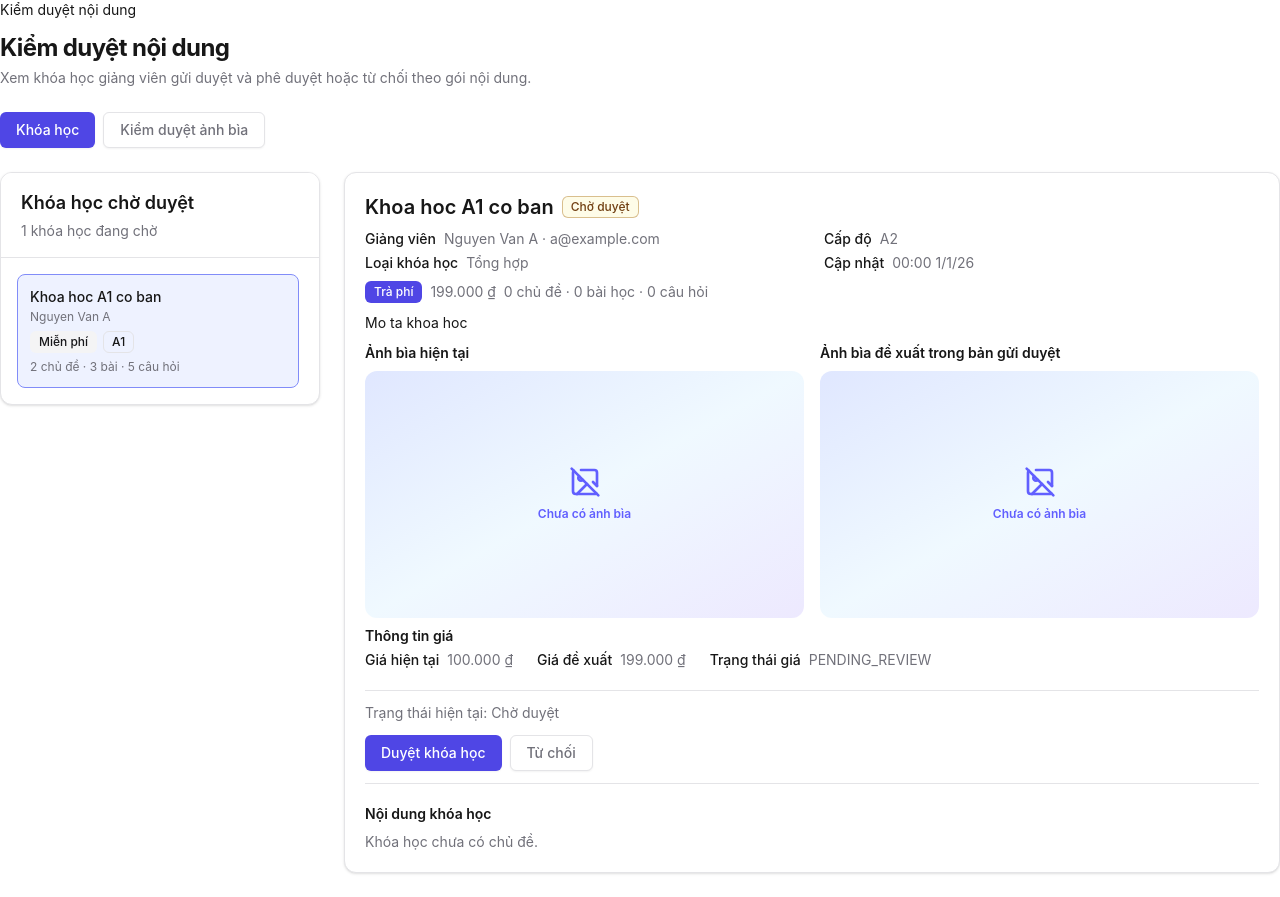
Test: AdminContentReviewPage shadcn sync › shows the new status and disables inapplicable buttons after approve
Expected: the heading "Khoa hoc A1 co ban" is shown, [365,193,554,221]
What coordinates should you click on to do the following:
click the button "Duyệt khóa học"
I would click on:
 (433, 753)
Its box is [365,735,502,771].
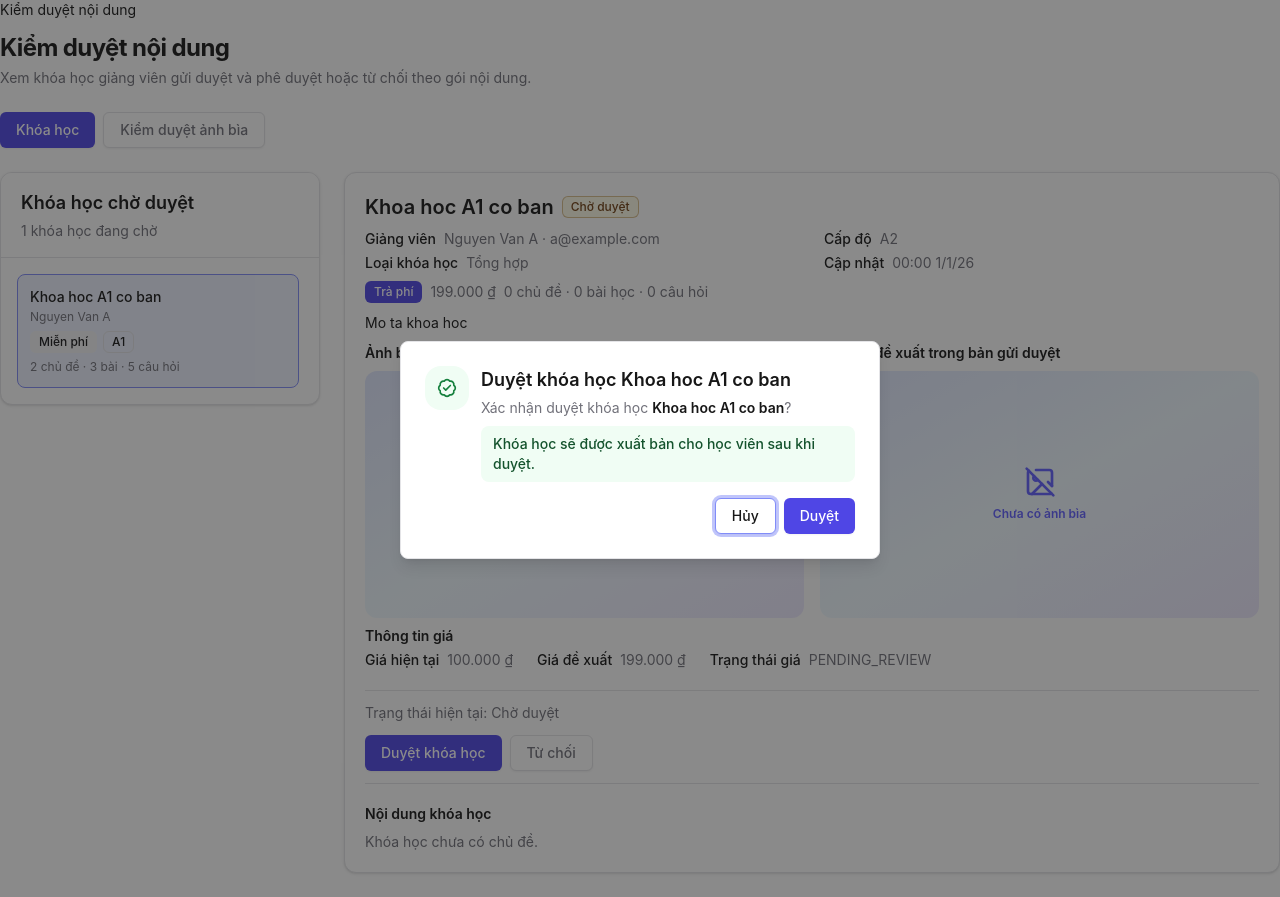
What coordinates should you click on to do the following:
click the button "Duyệt"
I would click on:
 (819, 516)
Its box is [784,498,855,534].
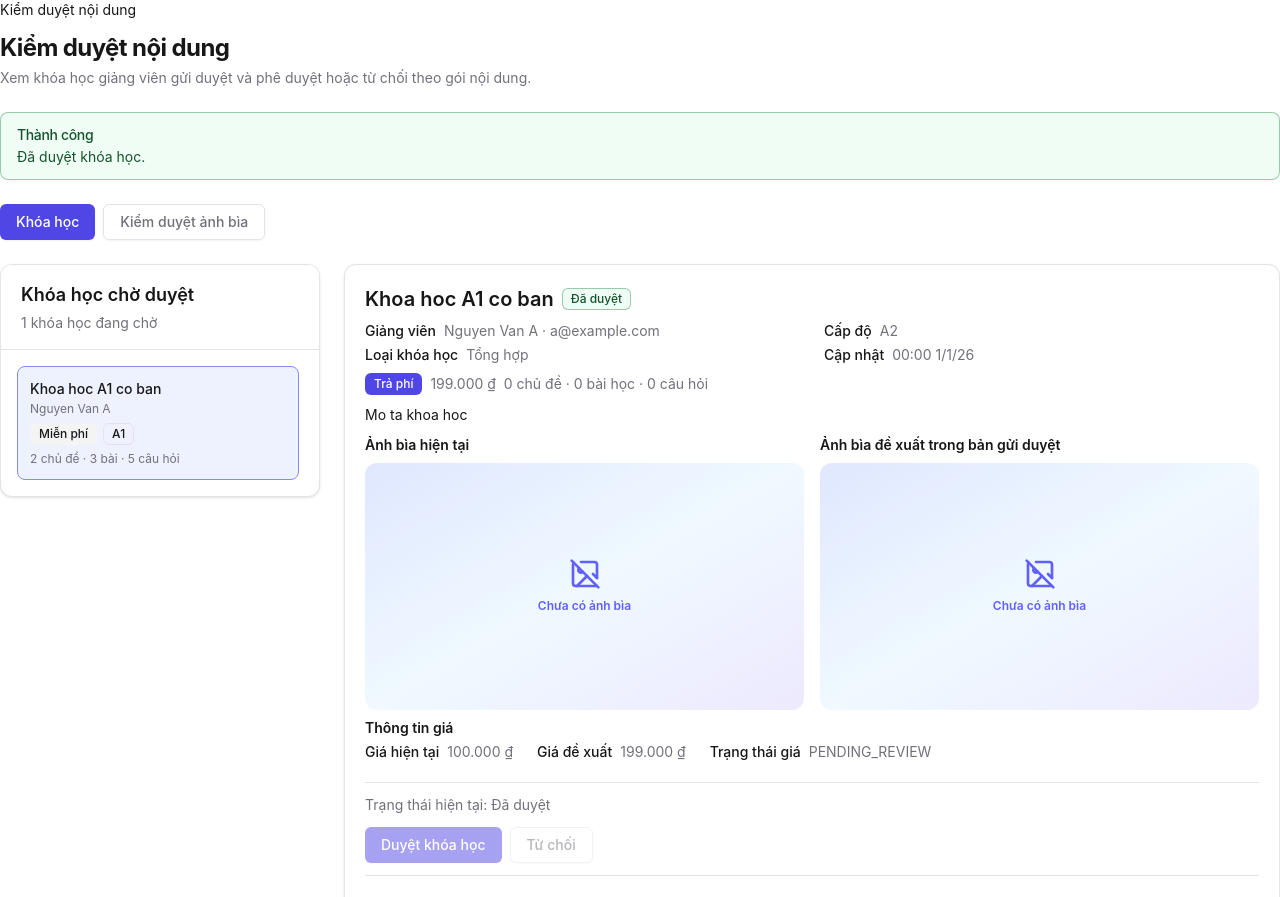
Expected: the button "Duyệt khóa học" is disabled, [365,827,502,863]
Expected: the button "Từ chối" is disabled, [510,827,593,863]
